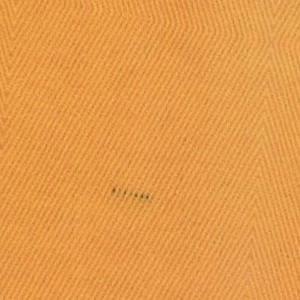stain: (103, 180, 155, 214)
